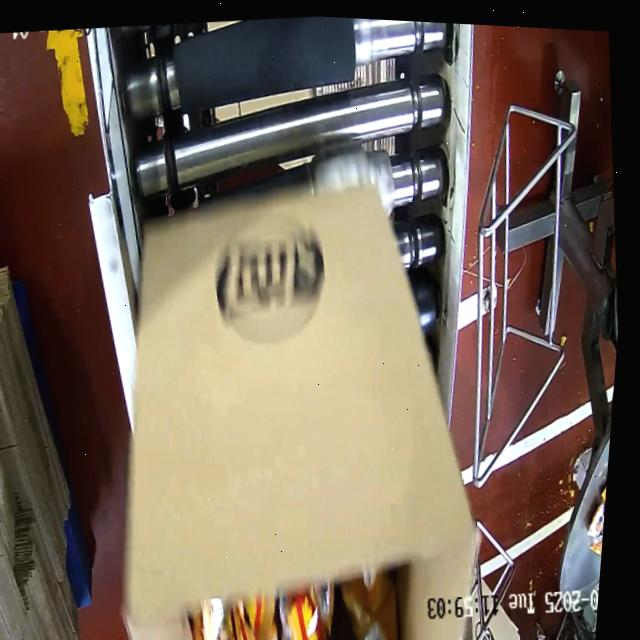FRENCH_CHEESE: (185, 550, 421, 640)
